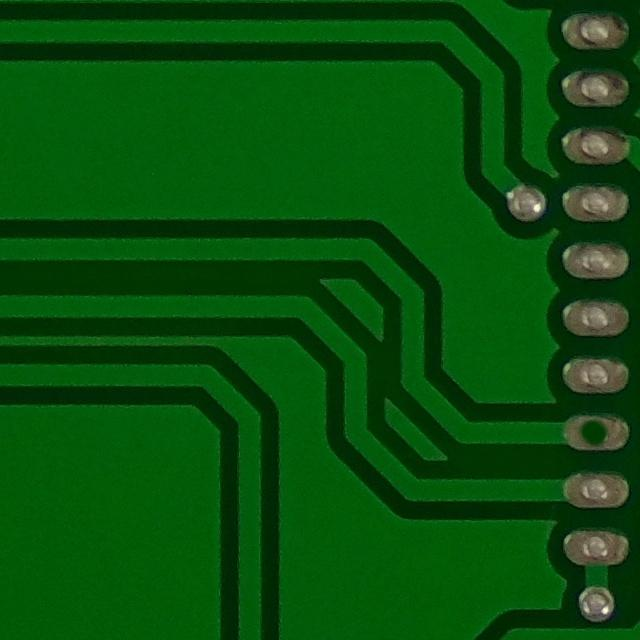missing_hole: (563, 399, 623, 463)
